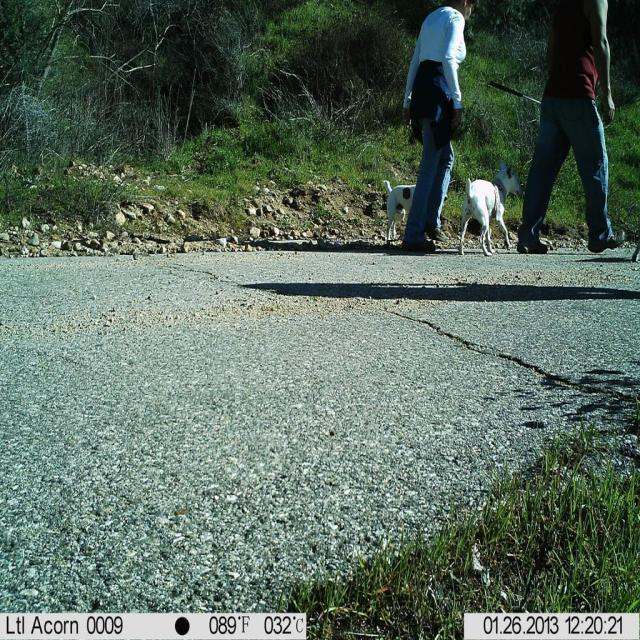dog: (454, 149, 528, 262), (376, 171, 453, 249)
